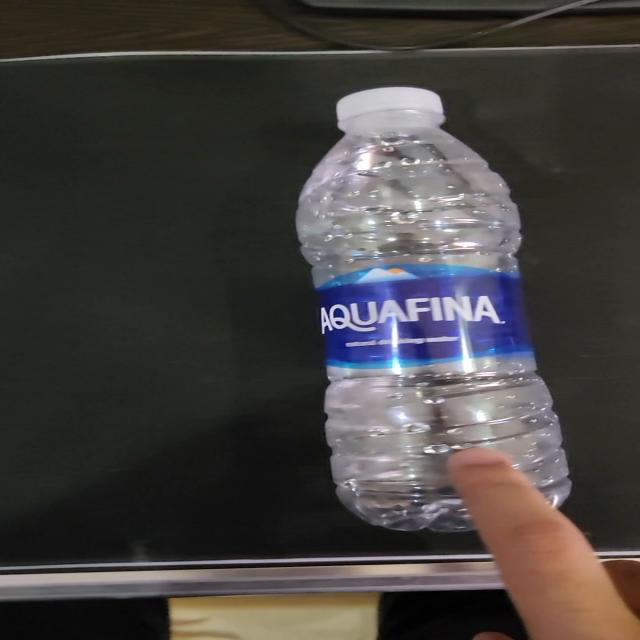Anorganik: (289, 84, 579, 533)
